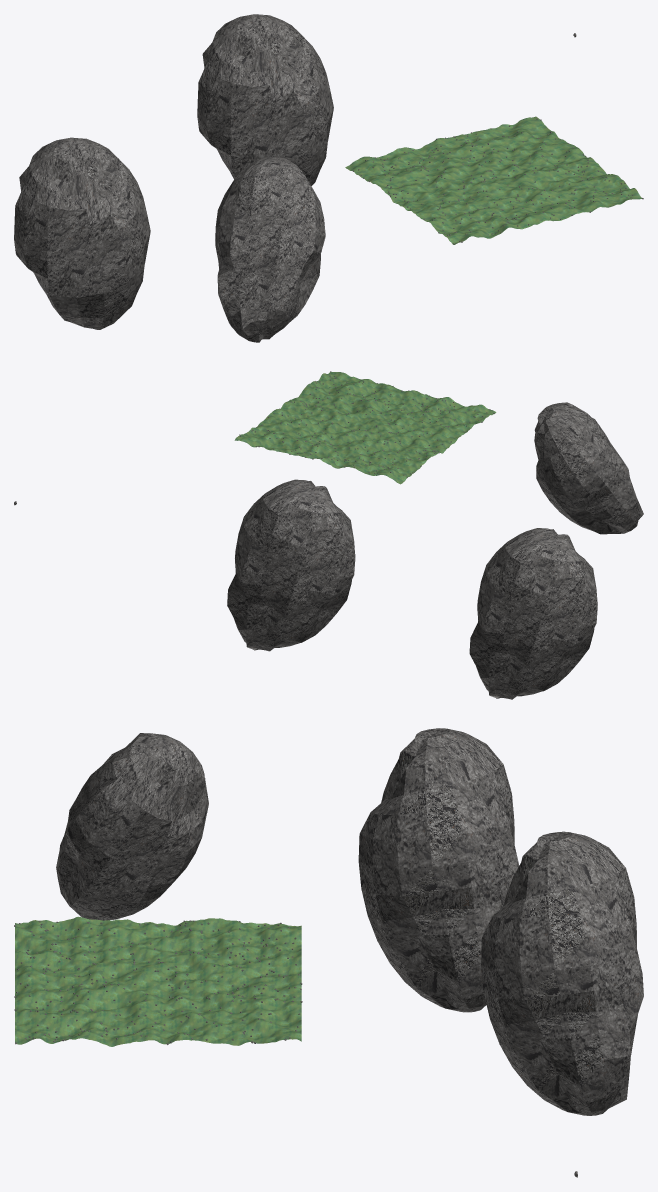
The model's file is mainmenuTest.glb.
The picture shows the model from 3 angles, top to bottom: view 1: azimuth 30°, elevation 25°; view 2: azimuth 150°, elevation 25°; view 3: azimuth 270°, elevation 25°; orthographic projection. The views are drawn at different scales.
Parts seen in each view (by area): view 1: Landscape, Landscape.002, Landscape.001, Landscape.004; view 2: Landscape.002, Landscape.001, Landscape, Landscape.004; view 3: Landscape.001, Landscape, Landscape.002, Landscape.004.
Part boxes in pixels (bbox=[...]): Landscape: bbox=[345, 116, 642, 244]; Landscape.002: bbox=[14, 137, 150, 329]; Landscape.001: bbox=[197, 14, 333, 185]; Landscape.004: bbox=[215, 156, 325, 342]; Landscape.002: bbox=[469, 528, 597, 699]; Landscape.001: bbox=[227, 479, 355, 651]; Landscape: bbox=[234, 371, 496, 484]; Landscape.004: bbox=[534, 402, 643, 534]; Landscape.001: bbox=[481, 831, 643, 1115]; Landscape: bbox=[15, 916, 301, 1046]; Landscape.002: bbox=[358, 728, 519, 1012]; Landscape.004: bbox=[56, 733, 208, 920].
Size of the model in its own units: 32.15 by 11.9 by 21.98.
2 materials, 2 textured.
